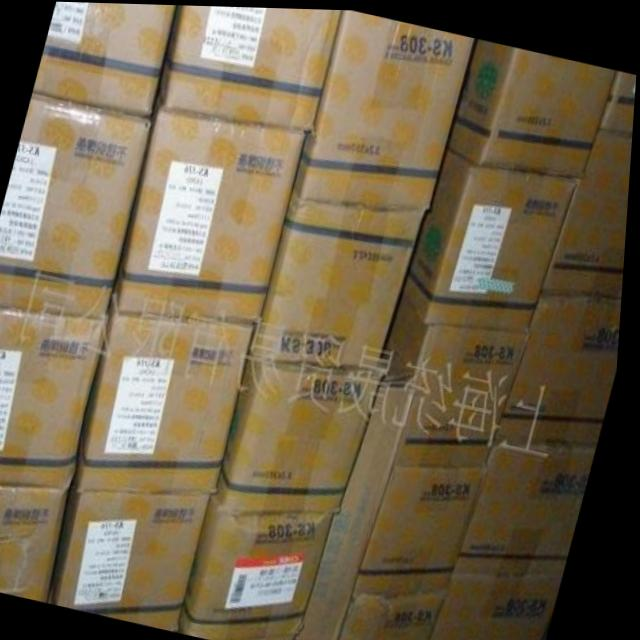box: (118, 92, 308, 327), (294, 8, 476, 206), (0, 93, 156, 320), (84, 294, 260, 492), (405, 145, 582, 331), (257, 191, 428, 369), (221, 355, 389, 516), (383, 294, 532, 465), (57, 473, 219, 628), (447, 38, 617, 175), (159, 4, 343, 130), (188, 493, 340, 639), (459, 439, 602, 576), (500, 292, 625, 446), (0, 311, 108, 488), (360, 462, 492, 594), (35, 1, 176, 116), (545, 127, 634, 301), (0, 484, 77, 599), (439, 576, 569, 640), (347, 584, 456, 640), (598, 68, 637, 132), (240, 632, 305, 640)
